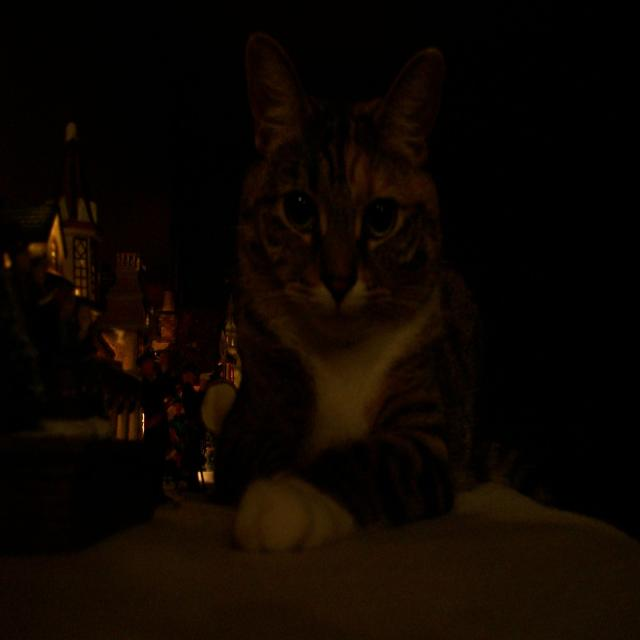Cat: (211, 19, 556, 580)
